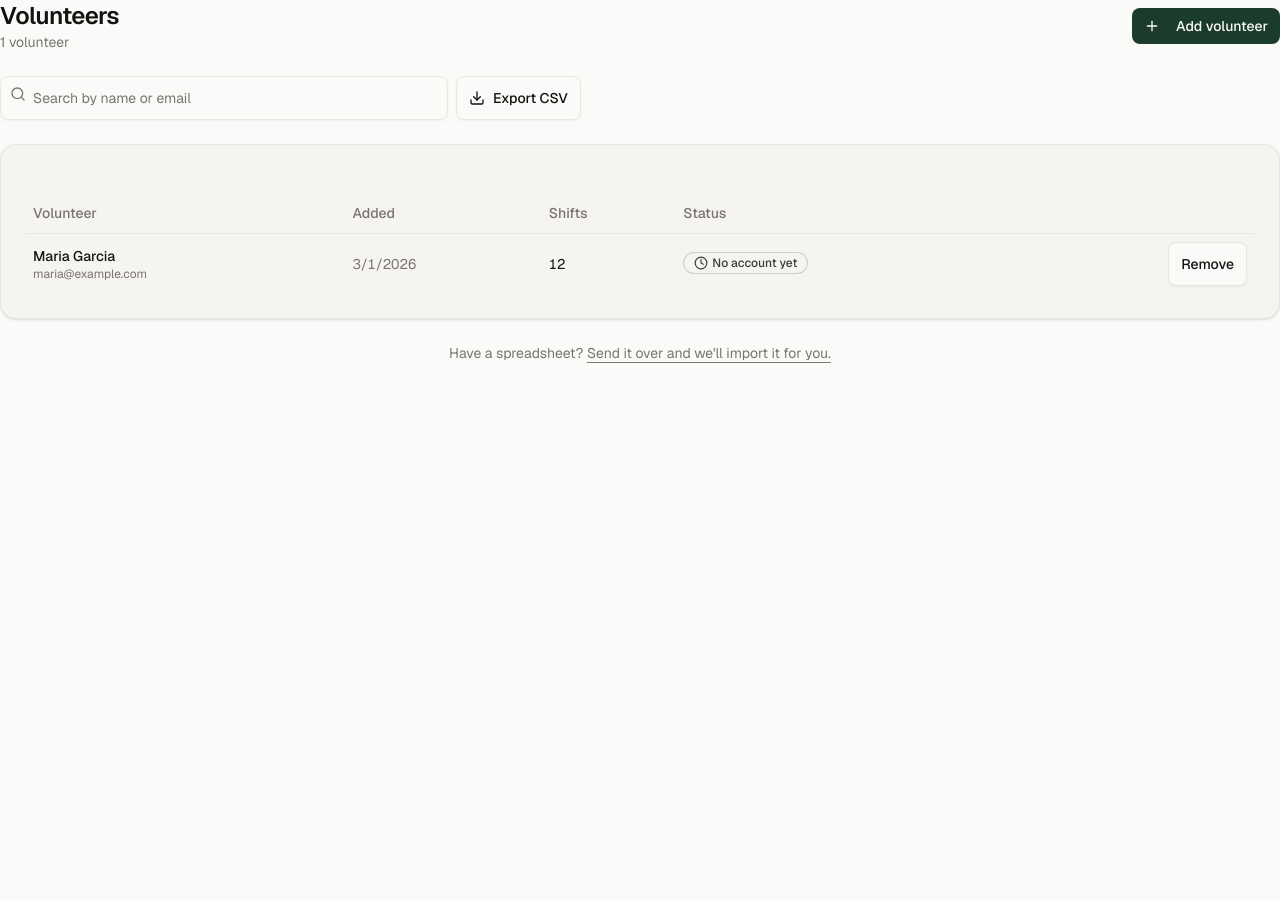
Scenario: VolunteersPage detail dialog (T27) › shows the org-scoped shift history and hours
Click the button "Maria Garcia". click: (74, 256)
box: [33,246,115,266]
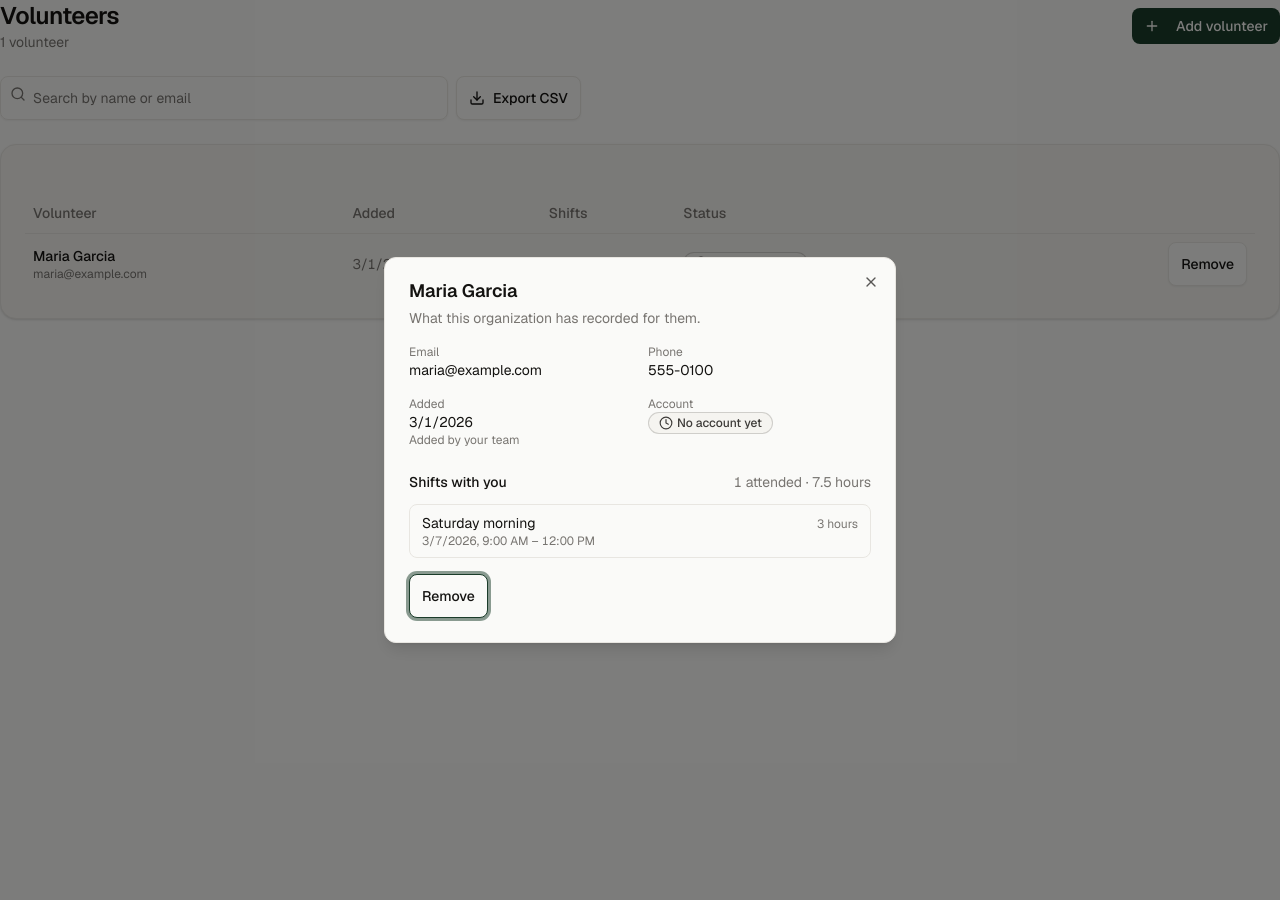
Expected: the text "Saturday morning" is shown, [422,514,536,532]
Expected: the text "1 attended · 7.5 hours" is shown, [734,472,871,492]
Expected: the text "3 hours" is shown, [817,516,858,532]
